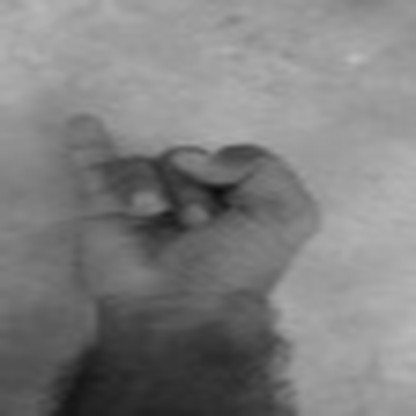i: (61, 100, 324, 315)
